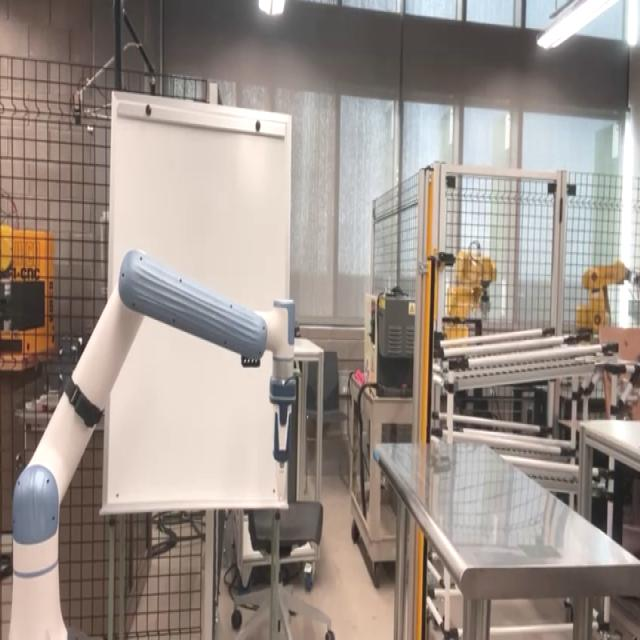robot: (0, 232, 310, 640)
